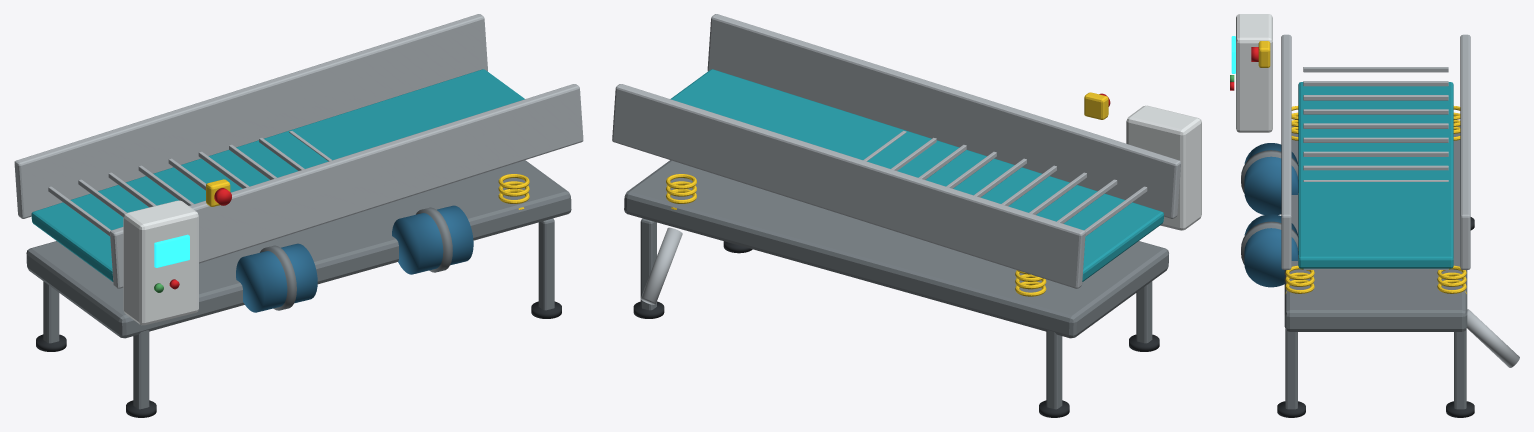
Rendered from vibratory-dewaterer.glb.
The picture shows the model from 3 angles, left to right: view 1: azimuth 30°, elevation 25°; view 2: azimuth 150°, elevation 25°; view 3: azimuth 270°, elevation 25°; orthographic projection. The views are drawn at different scales.
Visible parts, largest first — view 1: deck_guard.001, deck_guard, drain_pan, perforated_bed, cabinet, motor_body, motor_body.001, leg_3, leg_1, hmi, leg_2, motor_cap (+1 smaller); view 2: drain_pan, deck_guard.001, deck_guard, perforated_bed, cabinet, drain_pipe, leg_2, leg_4, leg_1, yellow_guard; view 3: perforated_bed, drain_pan, cabinet, deck_guard, deck_guard.001, motor_body.001, motor_body, drain_pipe, leg_3, leg_4, screen_bar_02, screen_bar_03 (+13 smaller).
Part boxes in pixels (x1,y1,x2,y2): deck_guard.001: (14,14,487,218); deck_guard: (110,84,583,288); drain_pan: (26,160,571,338); perforated_bed: (31,69,524,281); cabinet: (123,200,198,325); motor_body: (236,243,317,312); motor_body.001: (392,205,473,274); leg_3: (538,218,554,310); leg_1: (133,330,149,409); hmi: (154,234,189,267); leg_2: (43,281,59,343); motor_cap: (260,245,296,310); drain_pan: (624,160,1168,338); deck_guard.001: (612,84,1085,288); deck_guard: (707,14,1180,218); perforated_bed: (670,69,1163,281); cabinet: (1126,105,1201,230); drain_pipe: (640,227,682,304); leg_2: (1046,330,1062,409); leg_4: (640,218,656,310); leg_1: (1136,281,1152,343); yellow_guard: (1084,92,1108,119); perforated_bed: (1298,82,1453,268); drain_pan: (1284,126,1467,331); cabinet: (1236,14,1272,132); deck_guard: (1281,34,1291,269); deck_guard.001: (1460,34,1470,269); motor_body.001: (1244,214,1298,287); motor_body: (1244,143,1298,214); drain_pipe: (1467,309,1519,367); leg_3: (1285,329,1297,409); leg_4: (1454,329,1466,409); screen_bar_02: (1303,81,1448,86); screen_bar_03: (1303,95,1448,100).
Size of the model in its own units: 3.02 by 1.37 by 1.72.
